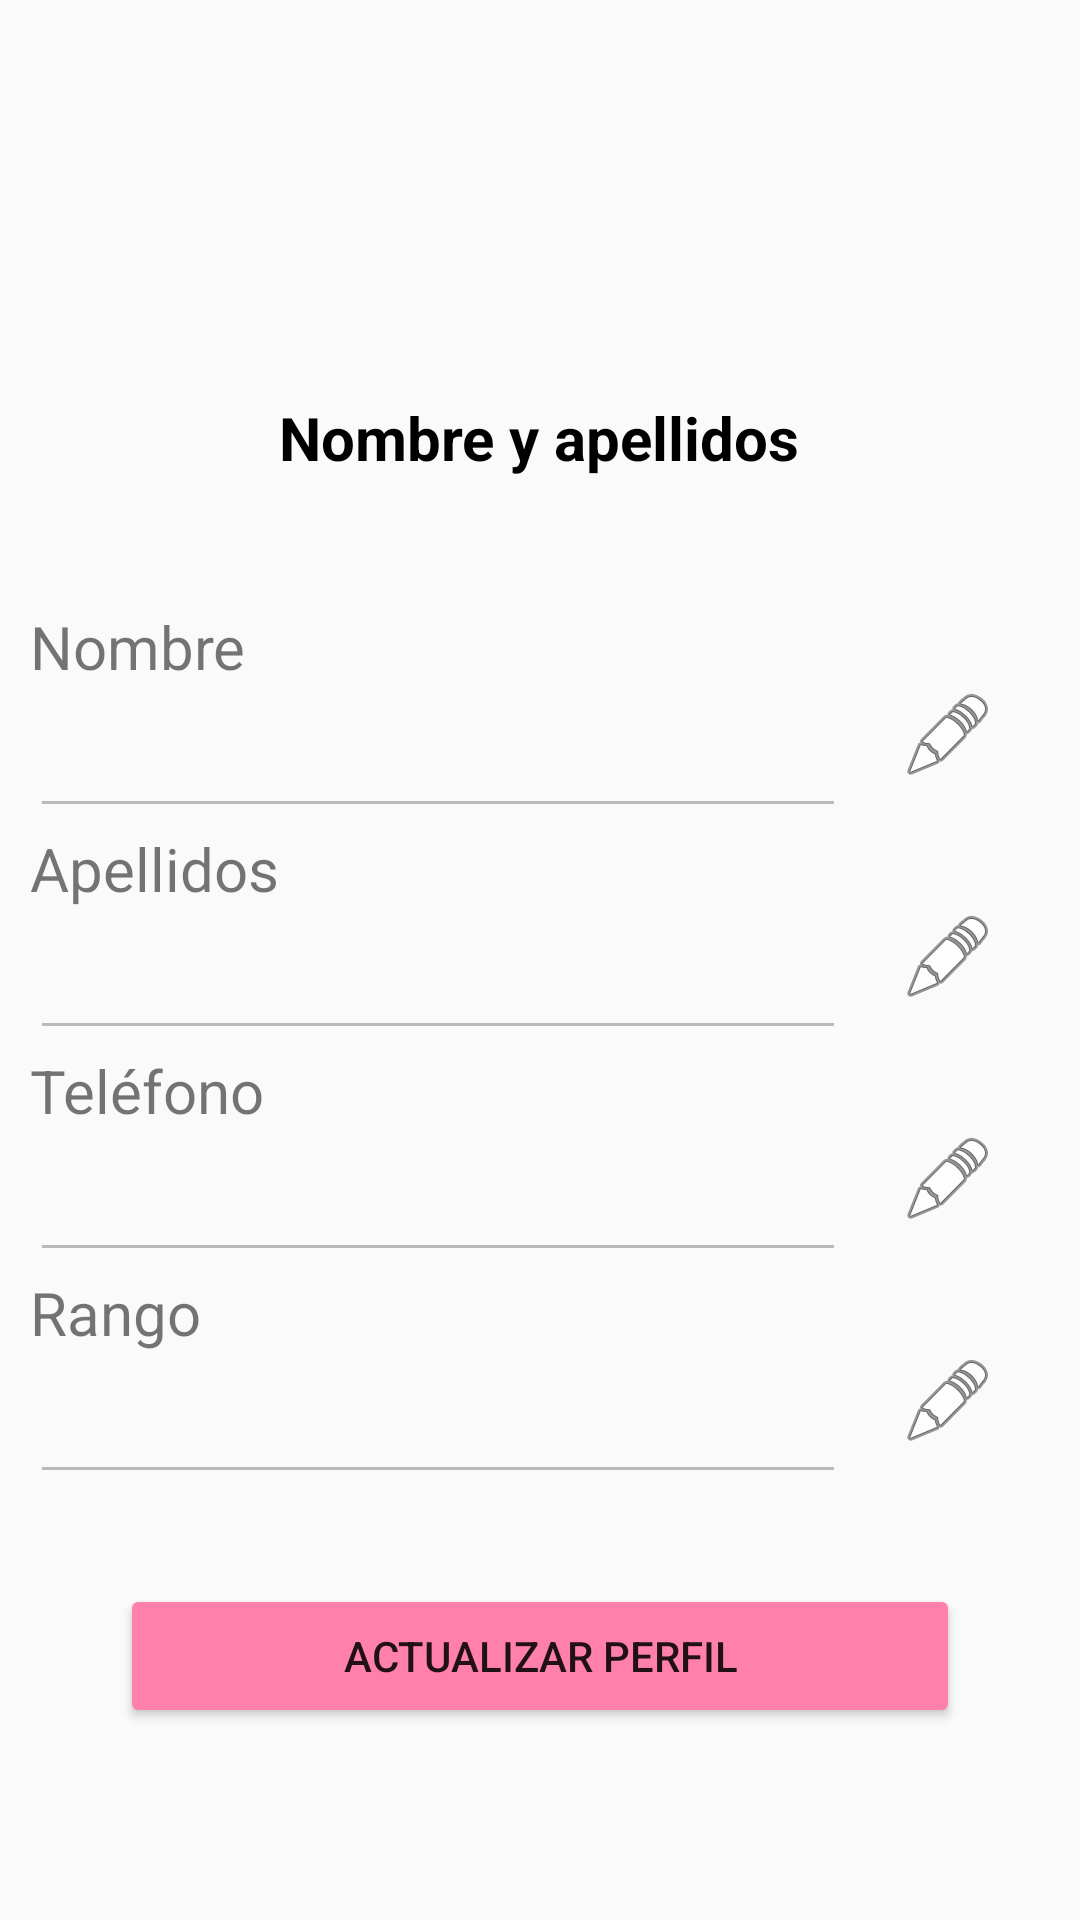

Named icons in this screenshot (1080px x 1920px) and their bounding boxes, box(x1, y1, x2, y2):
edit: box(907, 694, 988, 775), box(907, 916, 988, 997), box(907, 1138, 988, 1219), box(907, 1360, 988, 1441)
